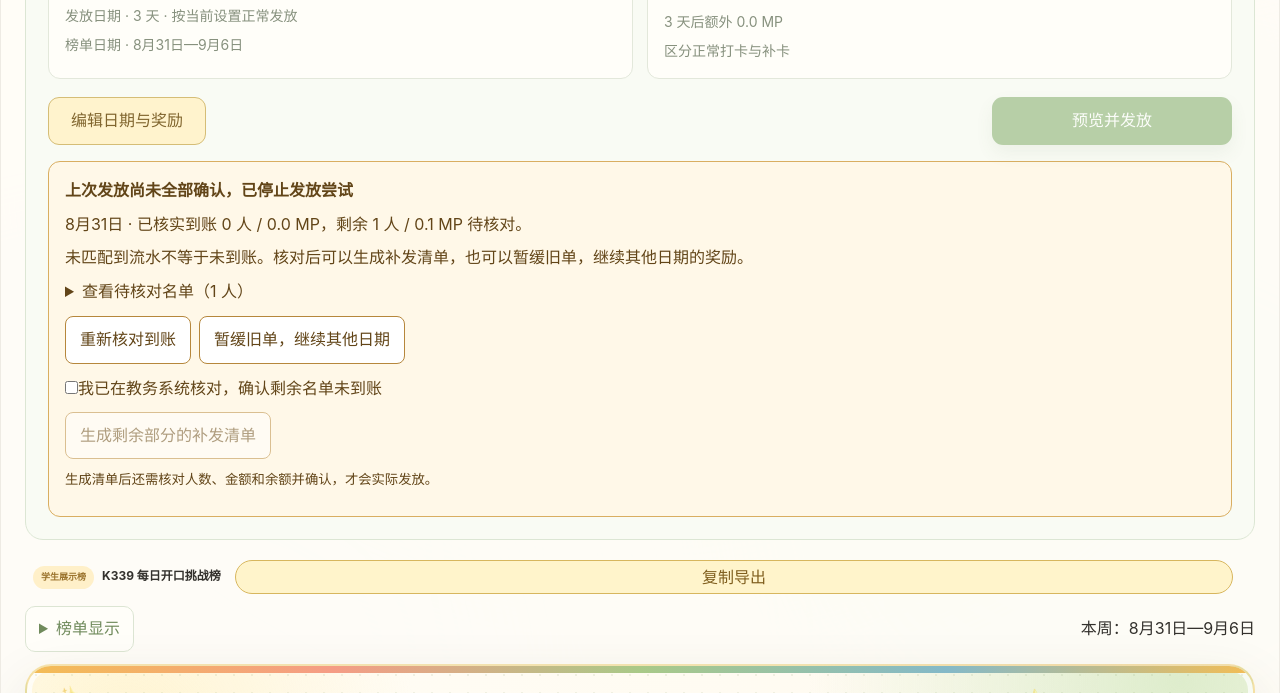
Scenario: SpeakingChallengeApp › can defer a pending grant and continue previewing another reward without issuing
The width and height of the screenshot is (1280, 693).
(page scrolled)
Click the button "暂缓旧单，继续其他日期". click: (302,340)
box: [199, 316, 405, 364]
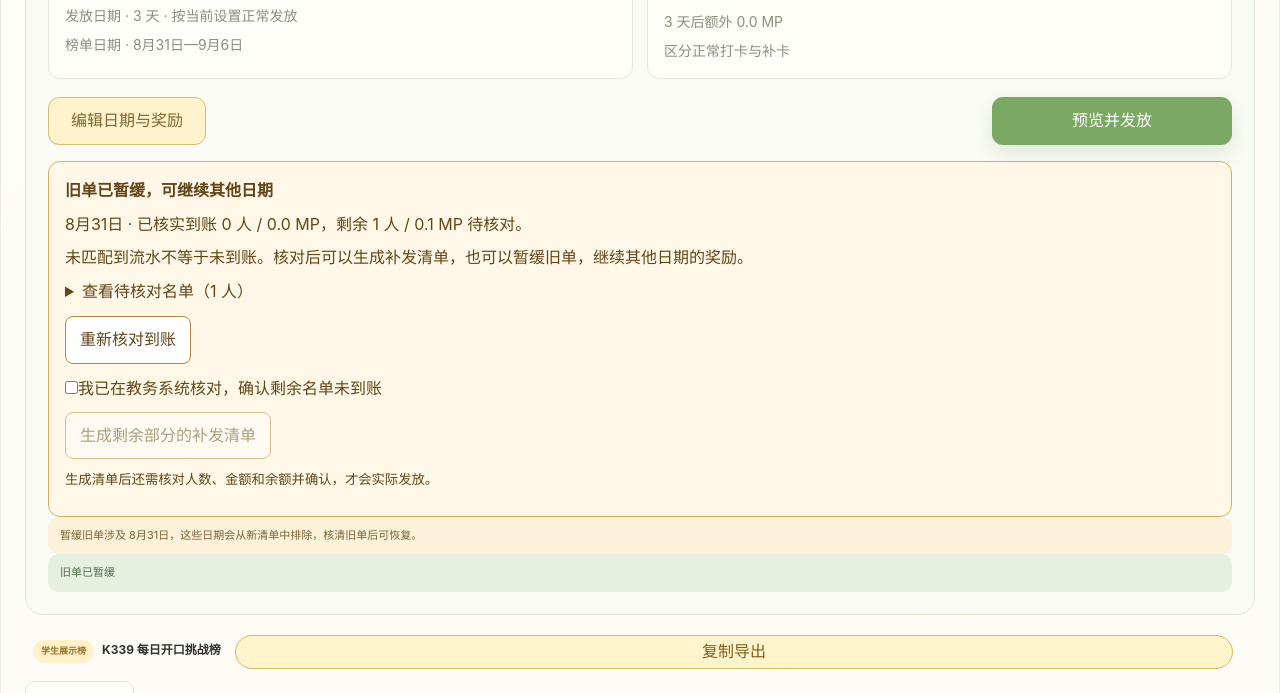
Check: the text "旧单已暂缓，可继续其他日期" is shown, box [65, 180, 273, 200]
Check: the text "这些日期会从新清单中排除" is shown, box [169, 528, 422, 542]
